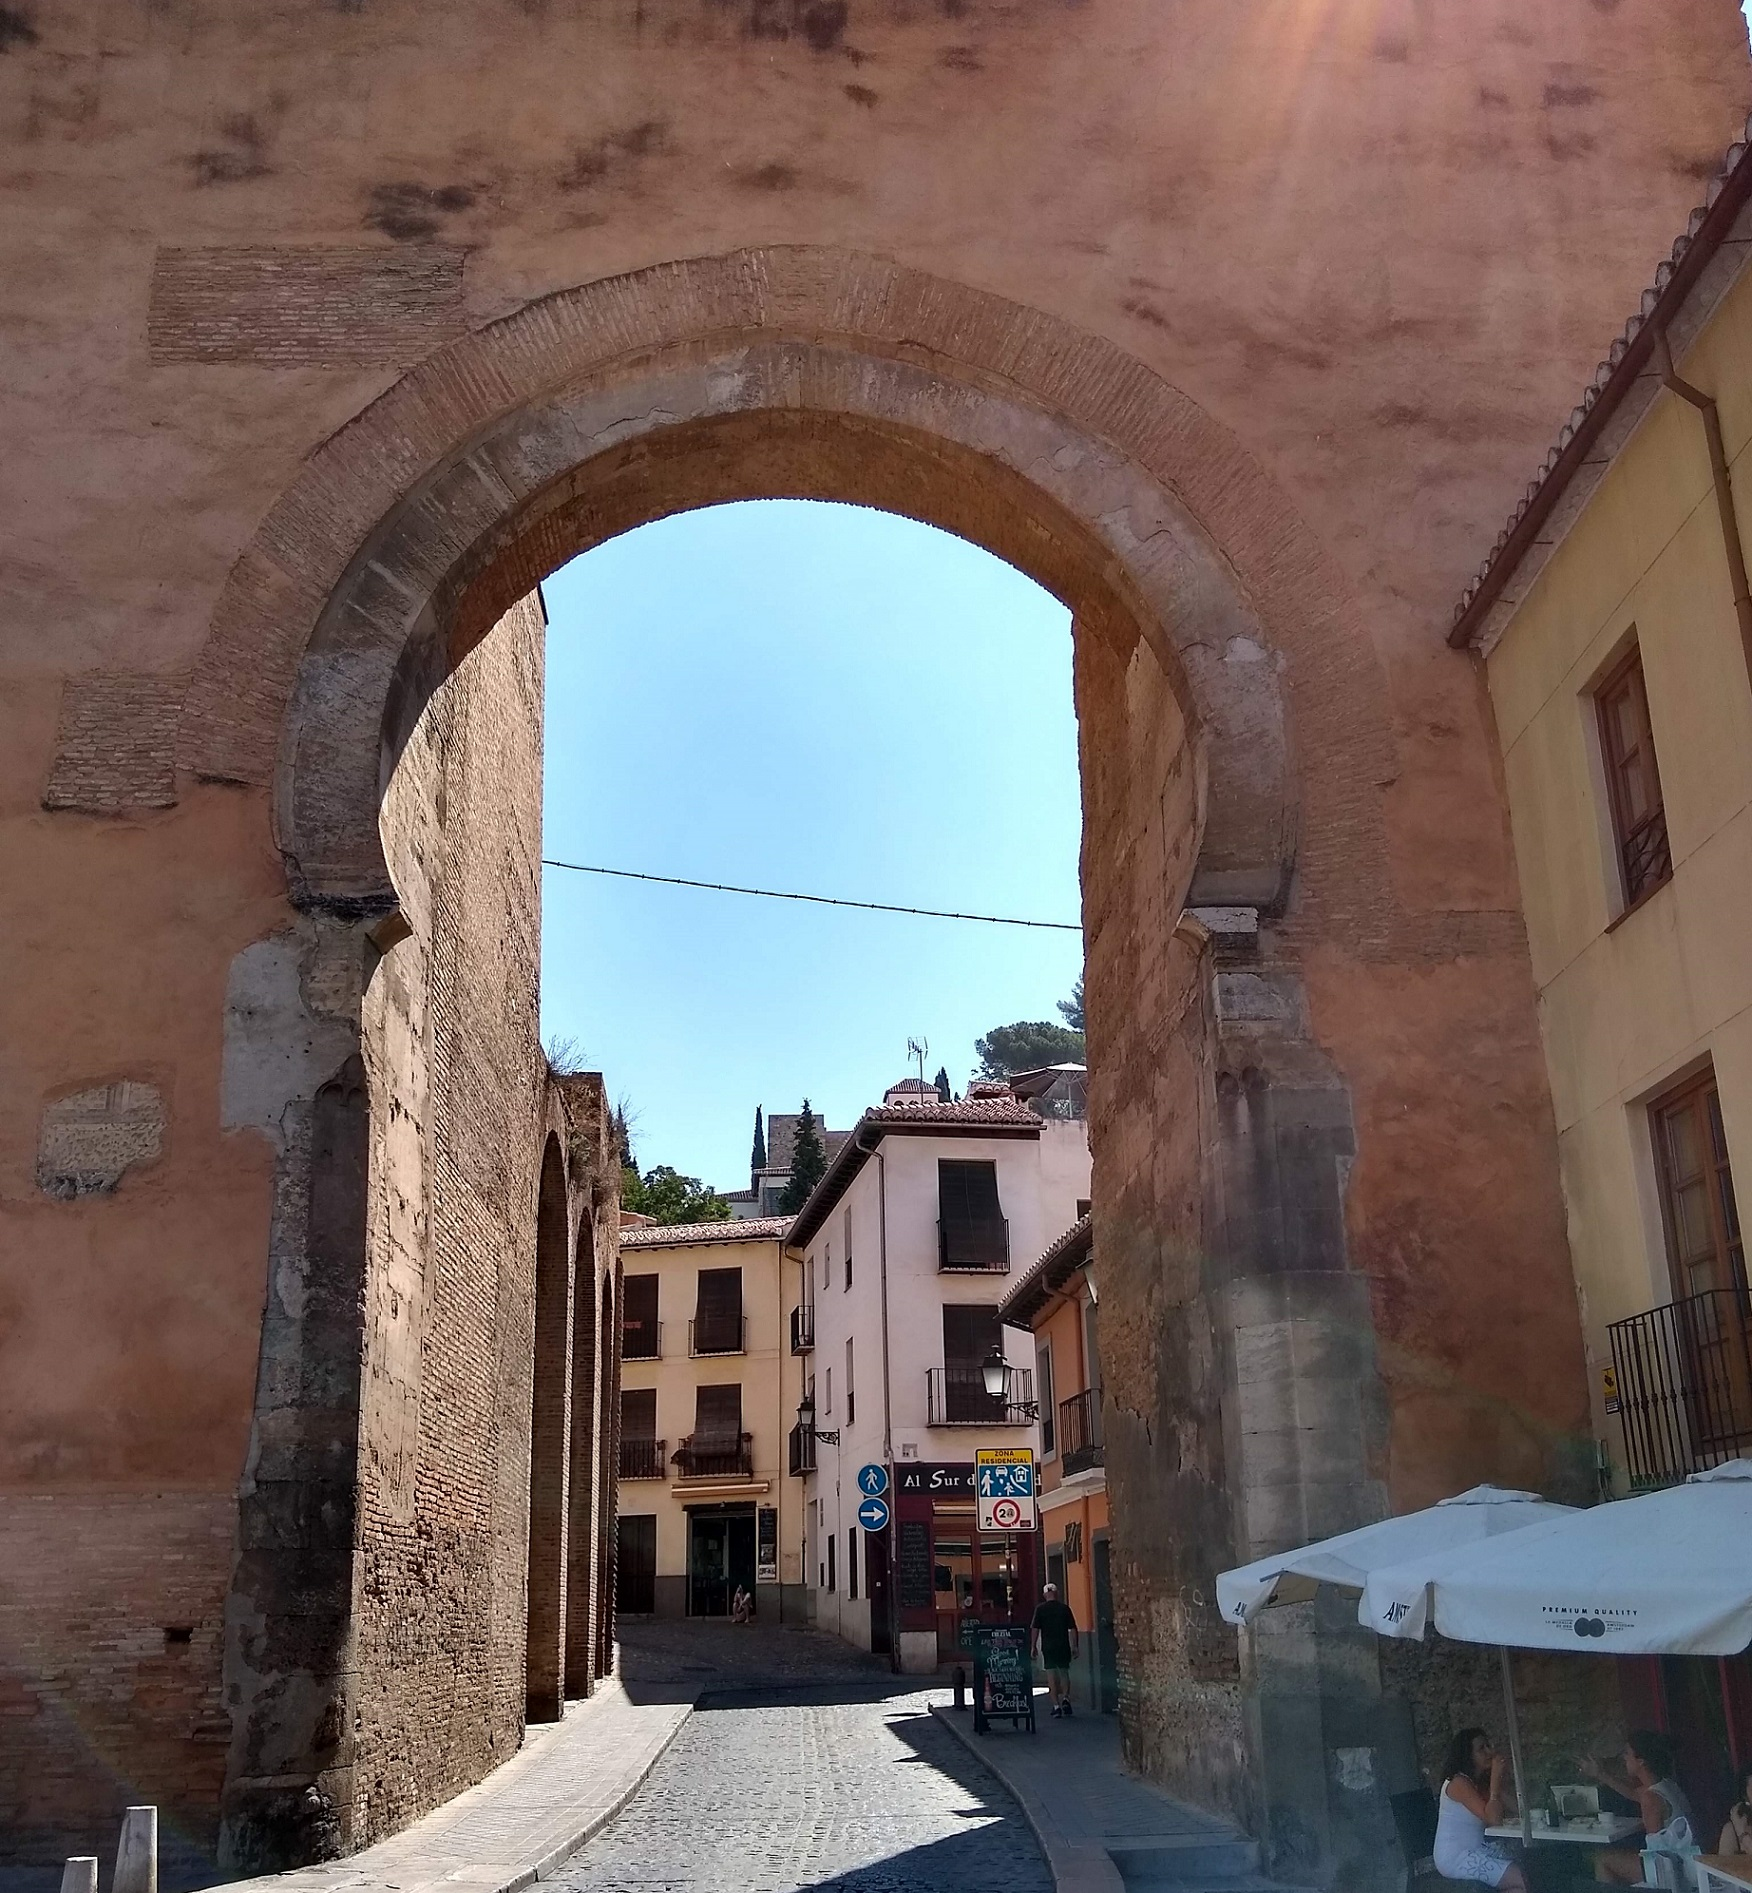arco-herradura: (312, 338, 1310, 1026)
